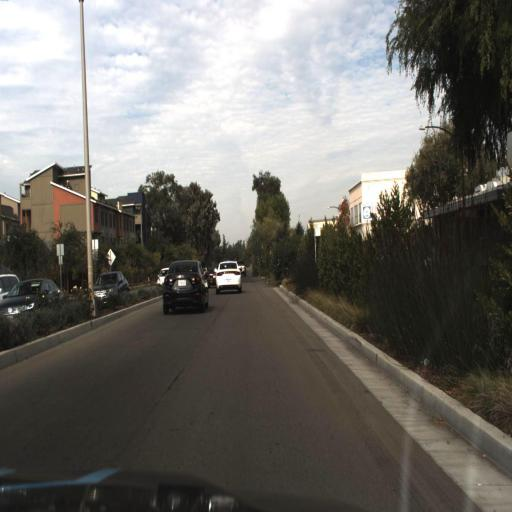car: (160, 252, 213, 323), (1, 274, 63, 322), (84, 263, 133, 309), (210, 252, 248, 306), (202, 267, 218, 297), (154, 263, 171, 288)
